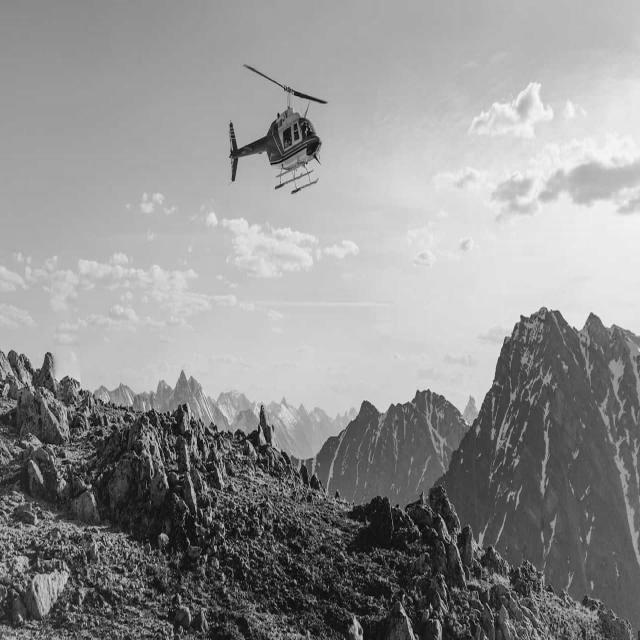helikopter: (215, 46, 353, 228)
